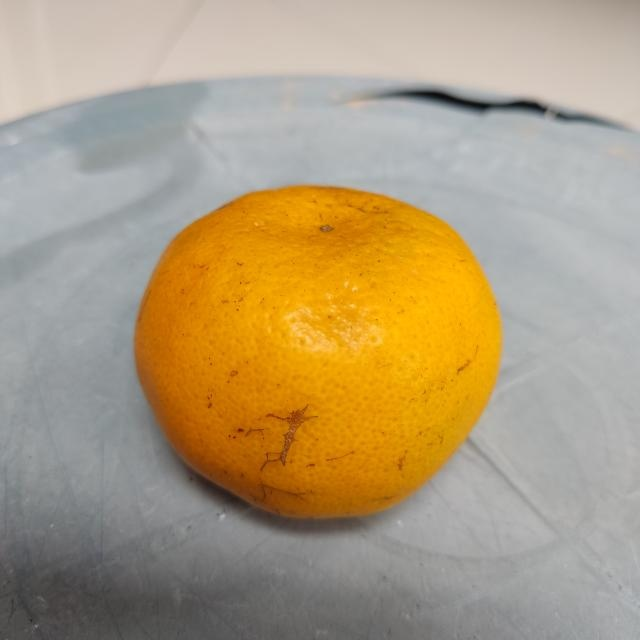agrume: (128, 177, 508, 524)
